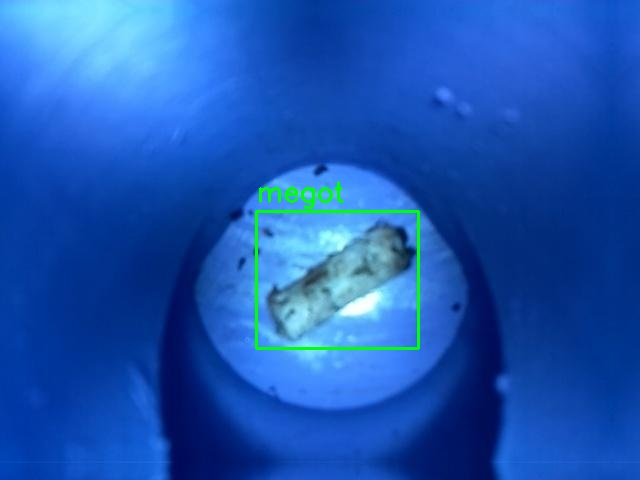megot: (256, 211, 418, 348)
